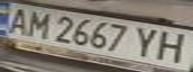2: (48, 12, 78, 45)
6: (87, 19, 112, 51), (69, 17, 93, 48)
7: (106, 20, 133, 54)
A: (0, 5, 33, 35)
H: (151, 29, 193, 63)
M: (21, 8, 54, 39)
Y: (130, 25, 166, 58)
